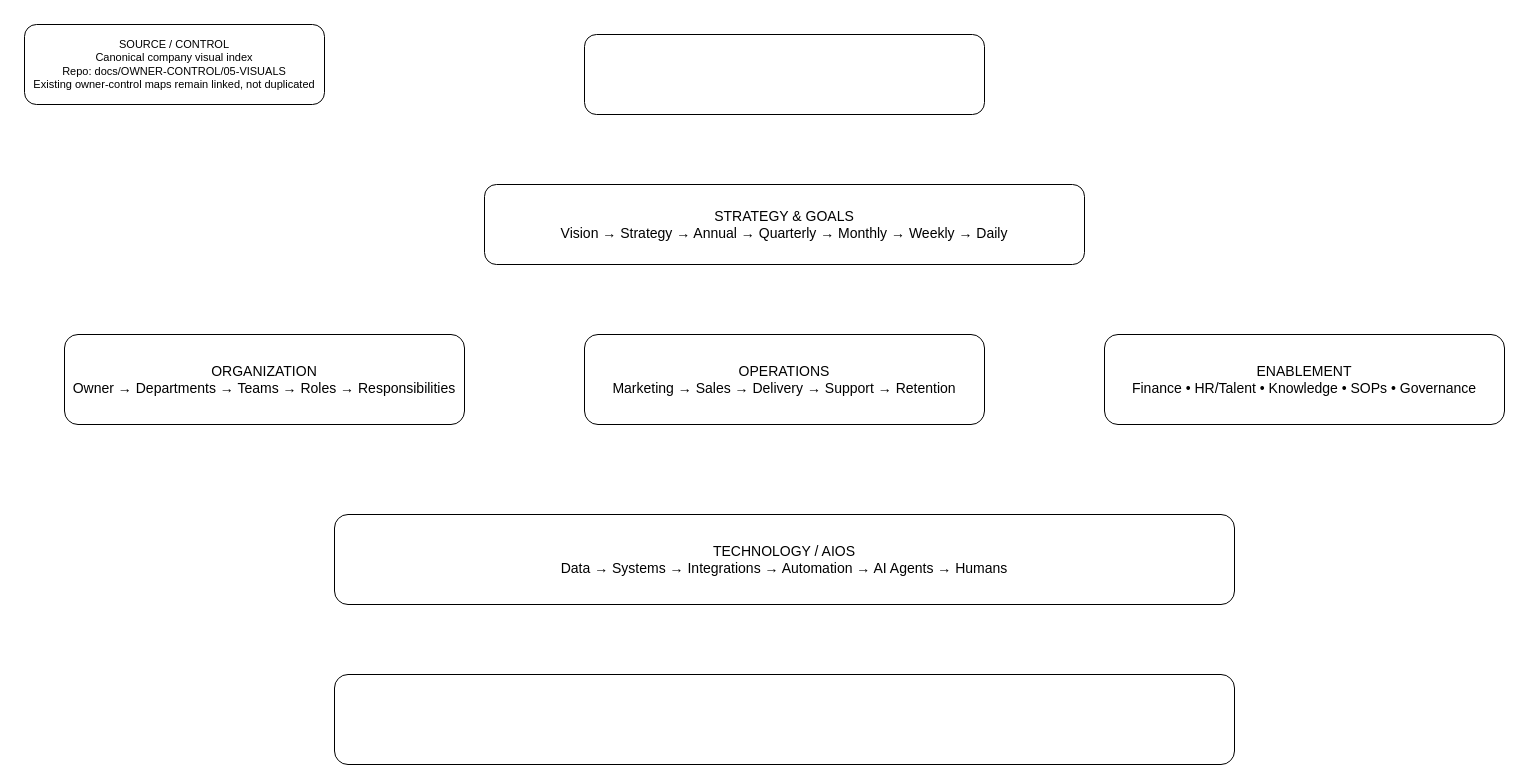
Some shapes in this 1522 by 782 pixel diagram are drawn without their labels. Each missing label, with the centre of its shape:
EXECUTION LOOP Goal → Plan → Project → Milestone → Task → Output → KPI → Review: [784,719]
NIVY GLOBAL COMPANY OS: [784,74]
